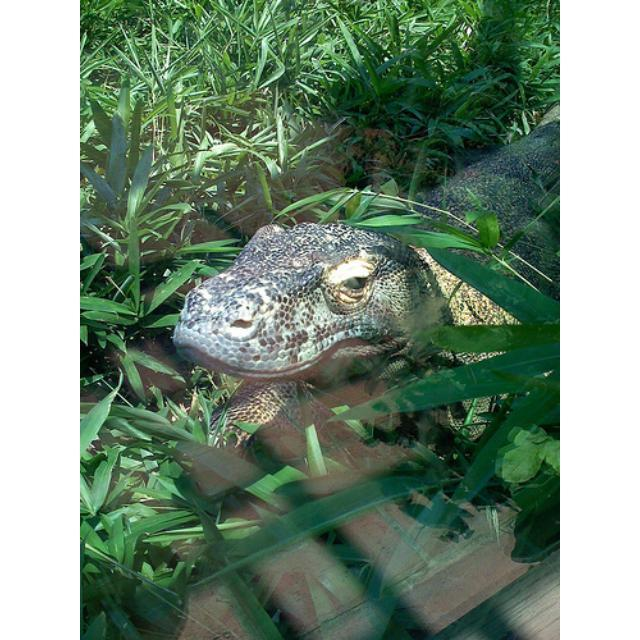KomodoDragon: (172, 109, 557, 491)
